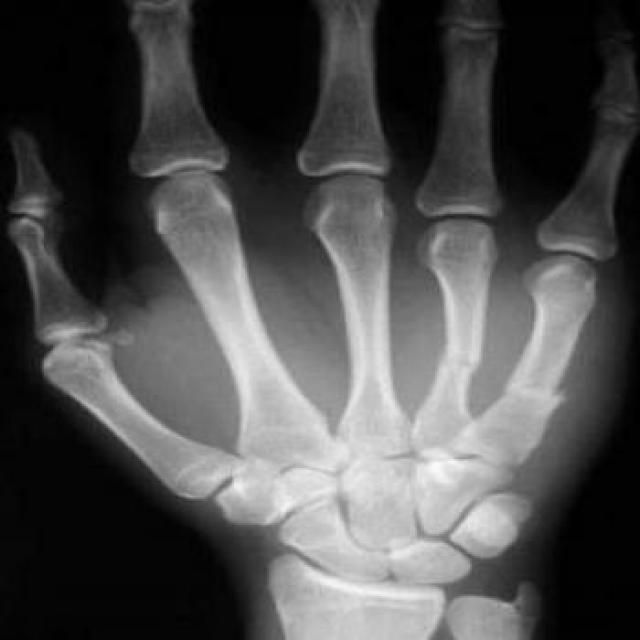Fracture: (506, 371, 590, 413), (420, 342, 492, 377)
